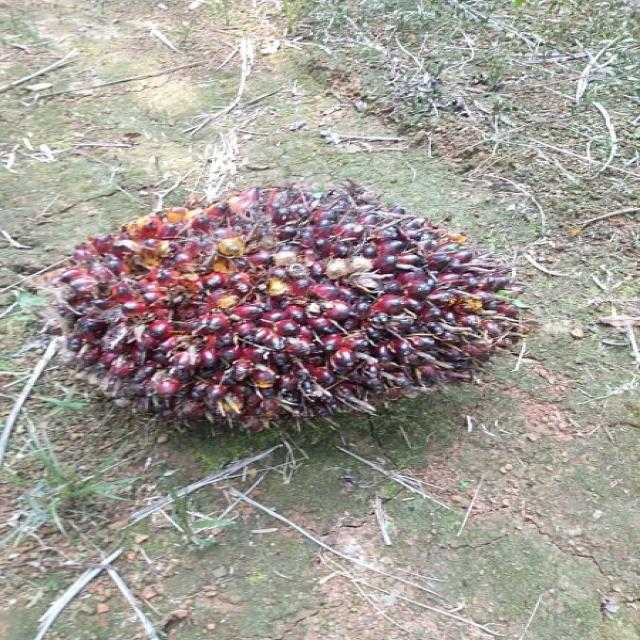fraksi 1: (35, 180, 529, 428)
